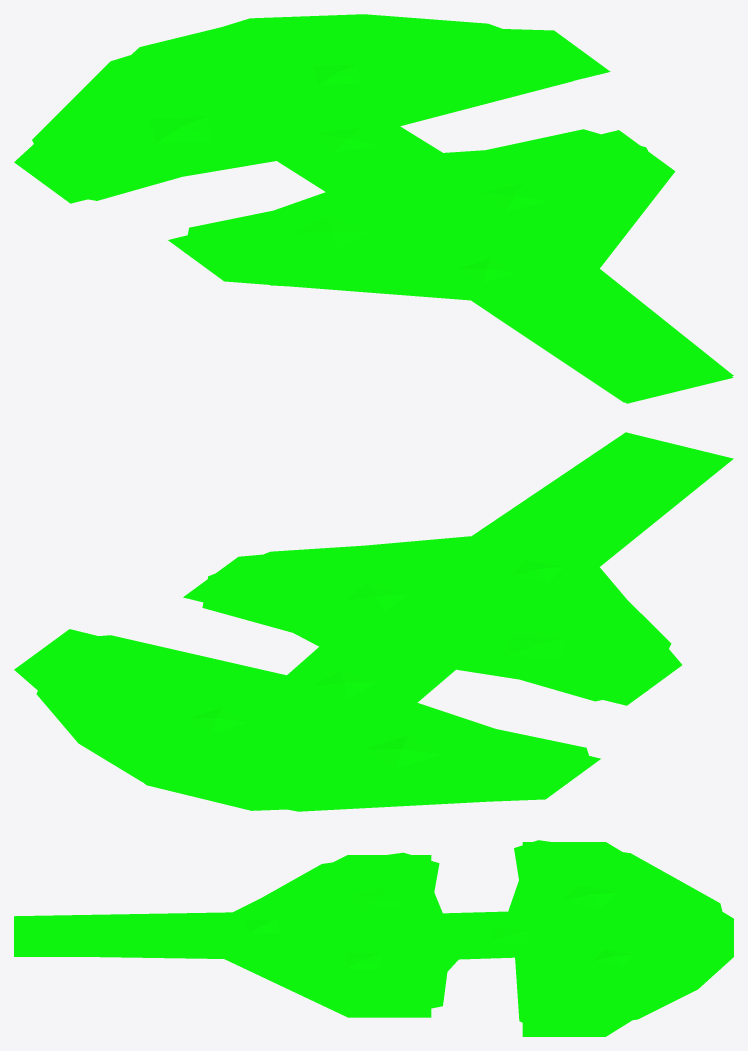
The model's file is s07b_nc2-floor.glb.
3 renders of one model, top to bottom at view 1: azimuth 30°, elevation 25°; view 2: azimuth 150°, elevation 25°; view 3: azimuth 270°, elevation 25°, orthographic. The views are drawn at different scales.
Visible parts, largest first — view 1: collision_floor-colonly; view 2: collision_floor-colonly; view 3: collision_floor-colonly.
Part boxes in pixels (left/top/right/bottom): collision_floor-colonly: left=14, top=14, right=733, bottom=403; collision_floor-colonly: left=14, top=432, right=733, bottom=811; collision_floor-colonly: left=14, top=840, right=733, bottom=1036.
Size of the model in its own units: 30.45 by 0.3164 by 47.43.
